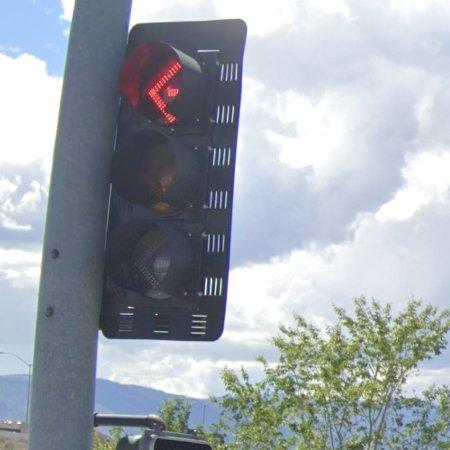traffic lights: (100, 19, 247, 342)
